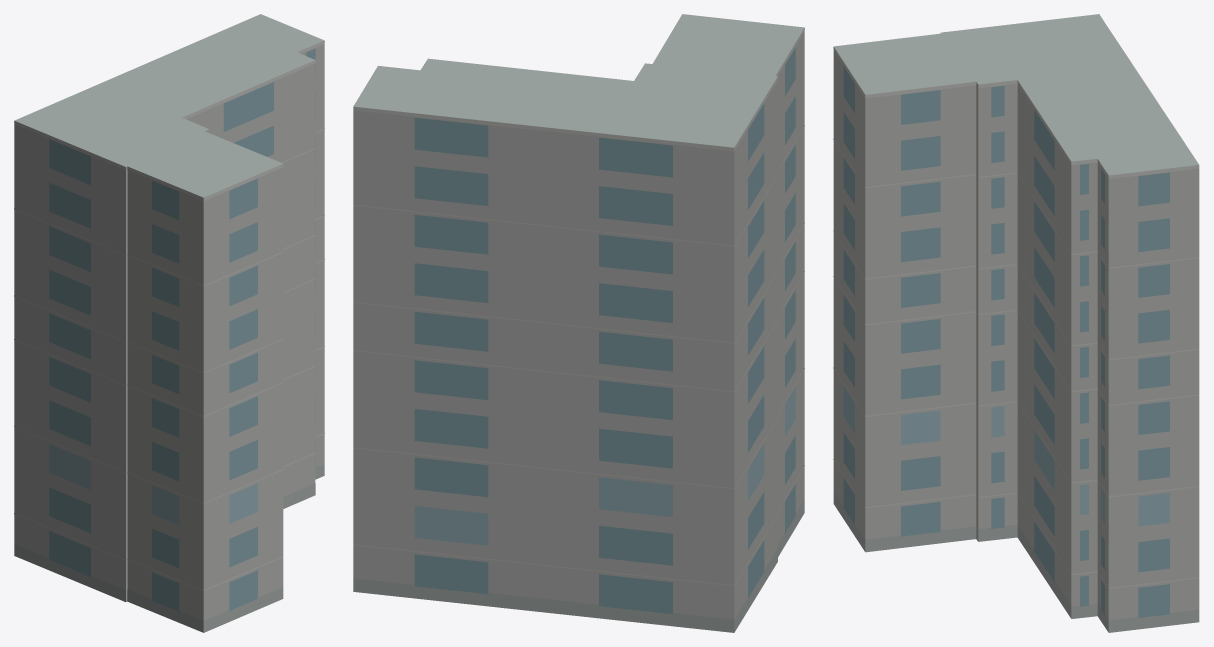
File: survey-upis-32573382.glb
3 views of the same model, side by side, from view 1: azimuth 30°, elevation 25°; view 2: azimuth 150°, elevation 25°; view 3: azimuth 270°, elevation 25° (orthographic). The views are drawn at different scales.
Parts seen in each view (by area): view 1: survey-upis-32573382.tmp; view 2: survey-upis-32573382.tmp; view 3: survey-upis-32573382.tmp.
Part boxes in pixels (left/top/right/bottom): survey-upis-32573382.tmp: left=14, top=14, right=324, bottom=632; survey-upis-32573382.tmp: left=353, top=14, right=804, bottom=632; survey-upis-32573382.tmp: left=833, top=14, right=1199, bottom=632.
Size of the model in its own units: 23.13 by 30.5 by 22.13.
